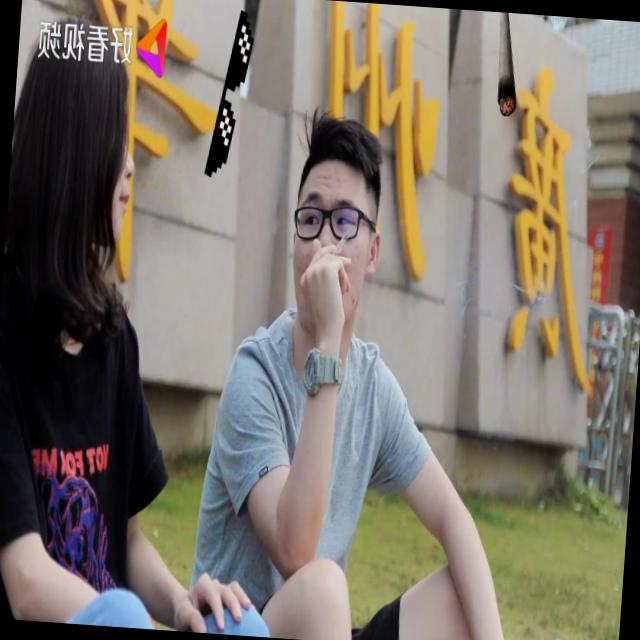smoke: (329, 220, 352, 261)
